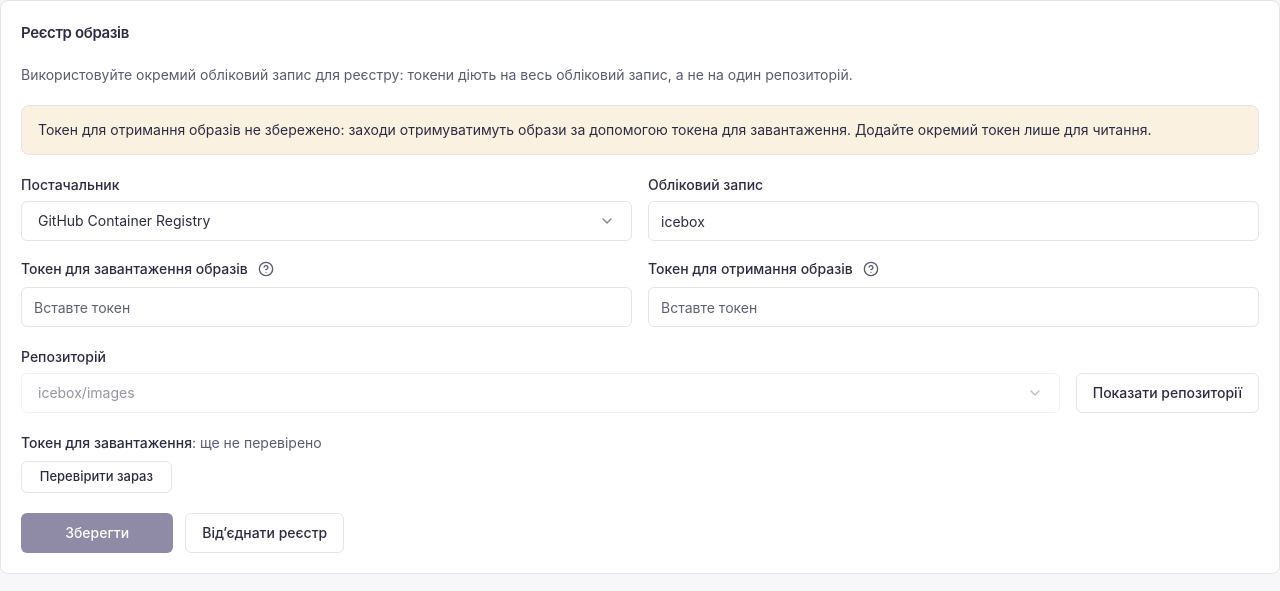
Test: ImageRegistryCard › saves with a typed push token when the same account has none stored
The width and height of the screenshot is (1280, 591).
Expected: the button "Зберегти" is disabled, [21, 513, 173, 553]
Step 1. Type "tok" into the password field labelled "Токен для завантаження образів" → (326, 307), box [21, 287, 632, 327]
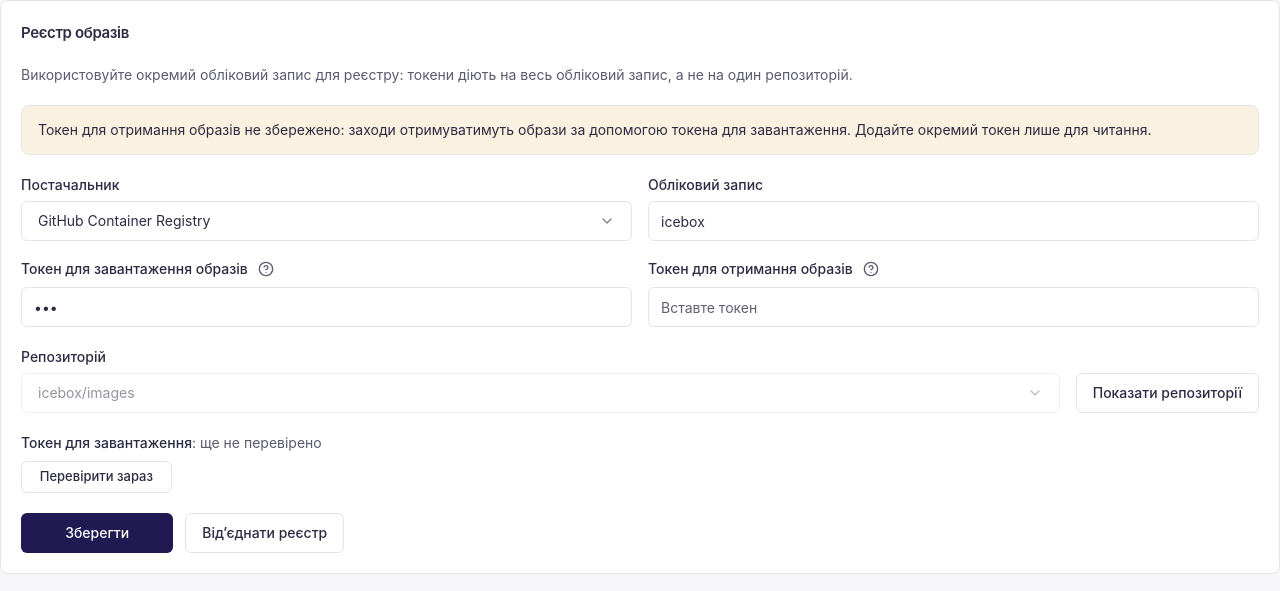
Expected: the button "Зберегти" is enabled, [21, 513, 173, 553]
